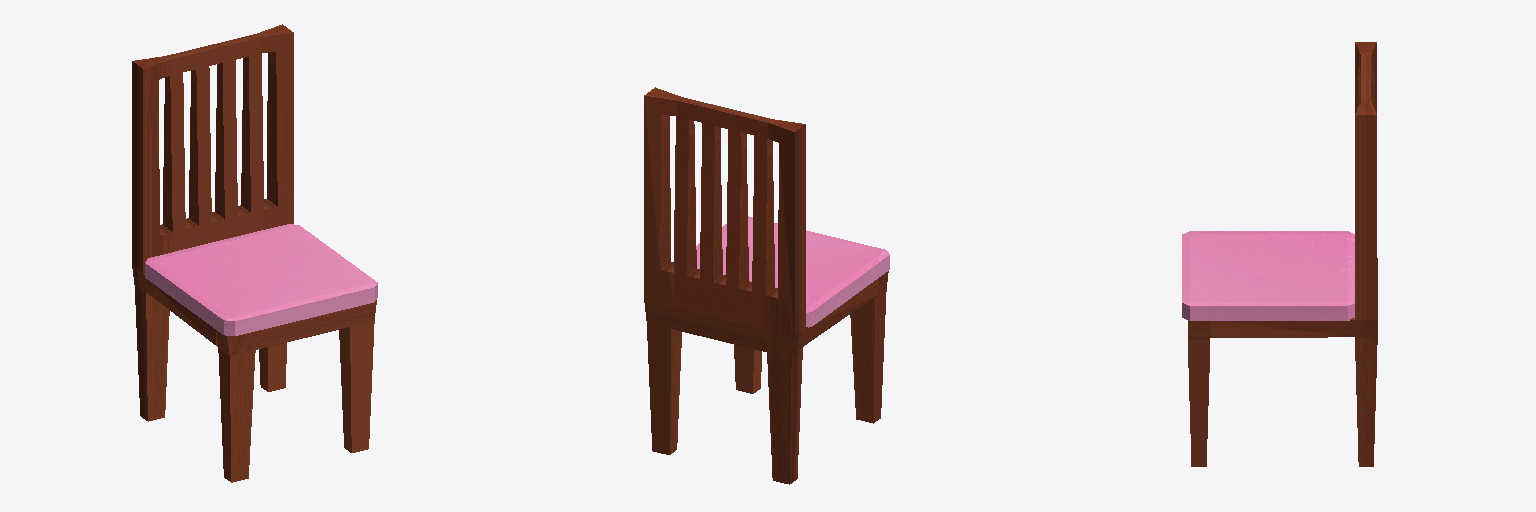
3 views of the same model, side by side, from view 1: azimuth 30°, elevation 25°; view 2: azimuth 150°, elevation 25°; view 3: azimuth 270°, elevation 25° (orthographic).
Parts seen in each view (by area): view 1: chair_legs, chair; view 2: chair_legs, chair; view 3: chair, chair_legs.
Boxes of the visible parts, x1=… form: chair_legs: x1=132, y1=24, x2=376, y2=482; chair: x1=145, y1=224, x2=377, y2=335; chair_legs: x1=644, y1=87, x2=888, y2=484; chair: x1=696, y1=216, x2=889, y2=327; chair: x1=1182, y1=231, x2=1354, y2=320; chair_legs: x1=1188, y1=42, x2=1377, y2=466.
Bounding box in the file's own units: 5.27 × 11.6 × 5.77.
2 materials, 2 textured.